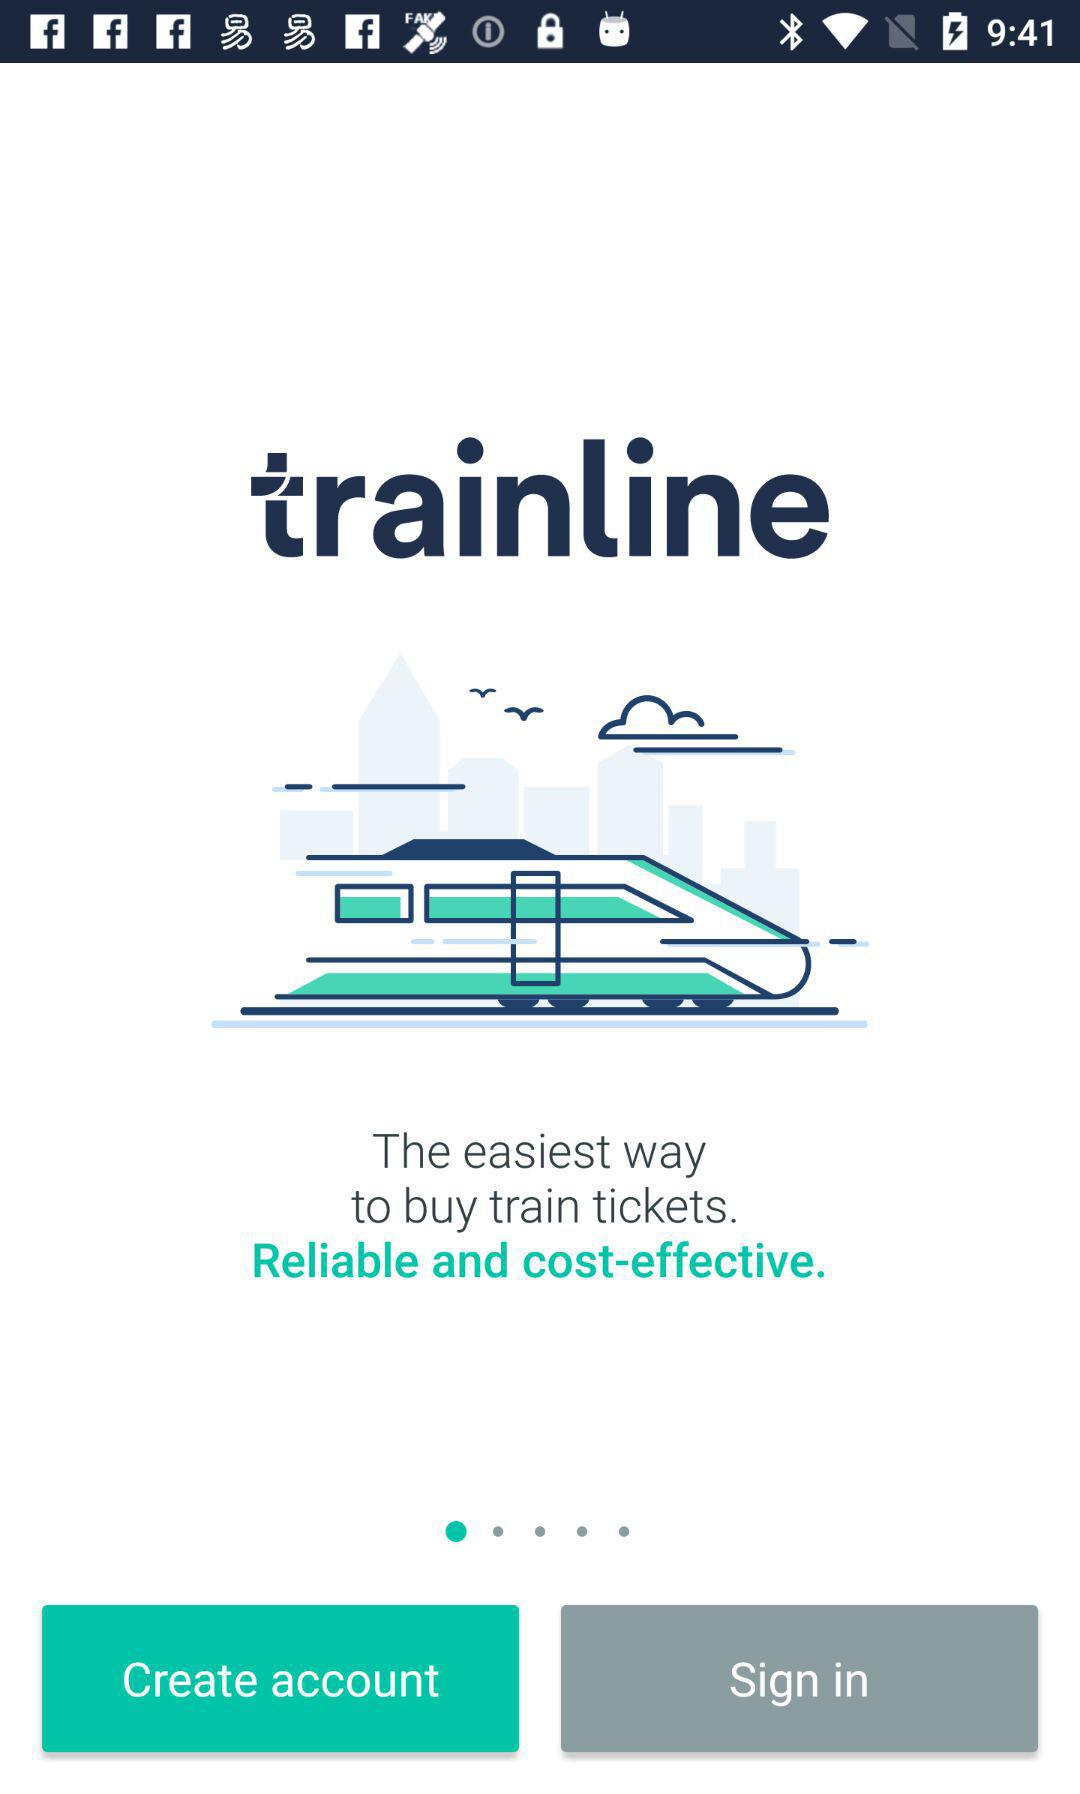Image: (210, 650, 870, 1030), (250, 437, 830, 560)
PageIndicator: (445, 1520, 632, 1543)
Text: (350, 1132, 737, 1234), (254, 1240, 825, 1279)
TextButton: (42, 1606, 520, 1753), (561, 1606, 1038, 1752)
UpperTaskBar: (1, 1, 1080, 64)
